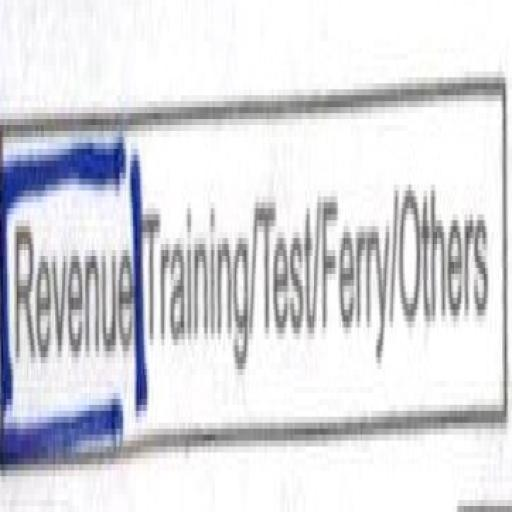check: (0, 71, 141, 511)
